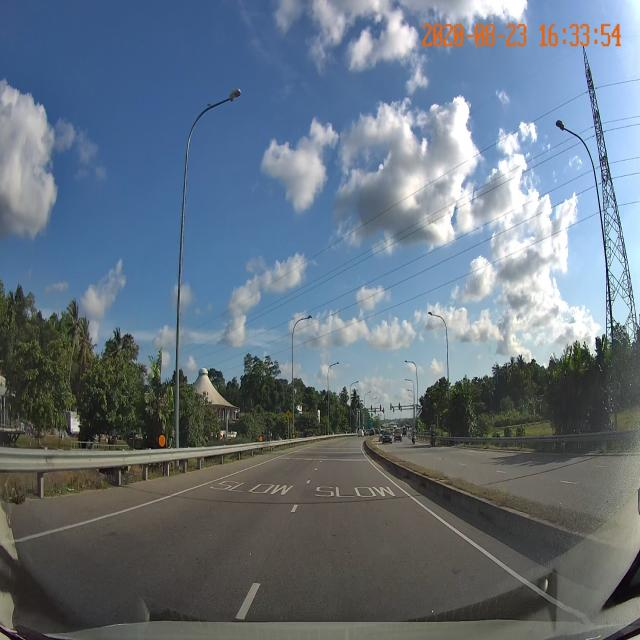SLOW: (210, 480, 294, 496), (315, 486, 395, 498)
